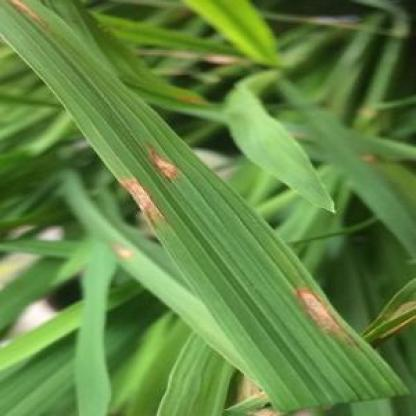Rice blast: (297, 274, 362, 356), (116, 173, 173, 242), (145, 138, 180, 187)
